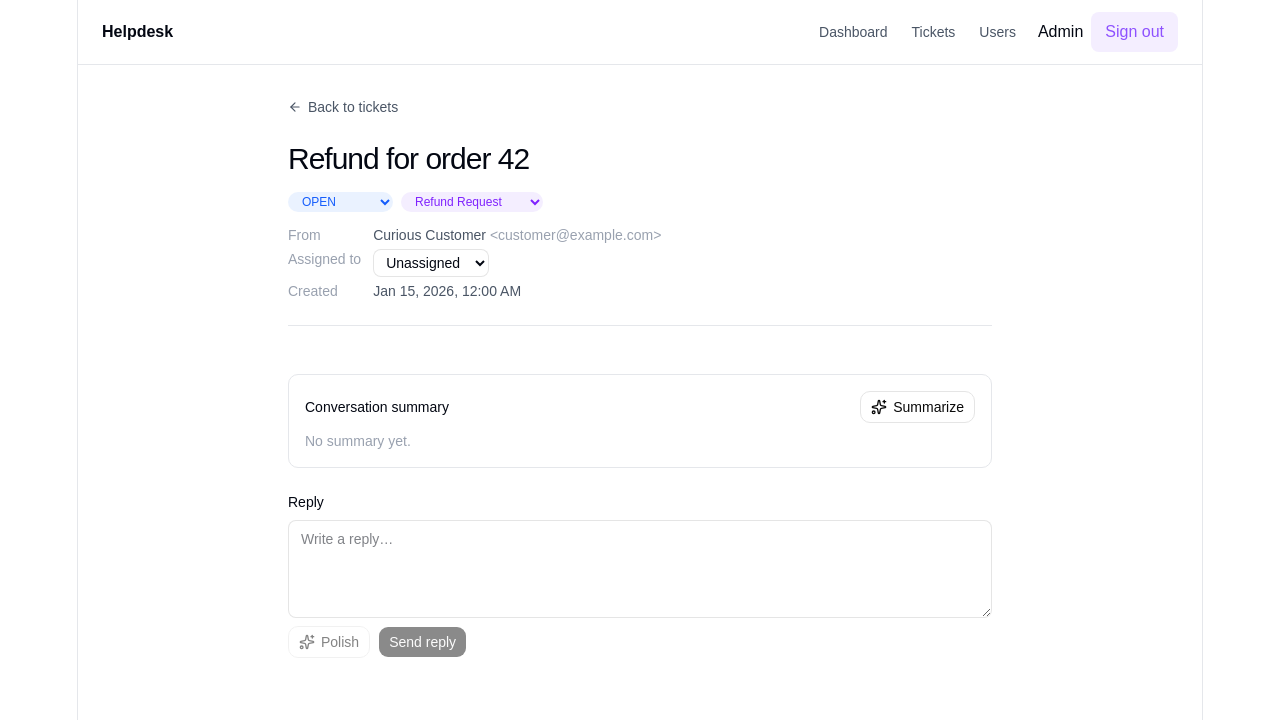
Test: TicketDetailPage › shows an error message when polishing a reply fails
The image size is (1280, 720).
Expected: the heading "Refund for order 42" is shown, [288,142,529,175]
In the text box labelled "Reply": (640, 569) [288,520,992,618], type "Hello there"
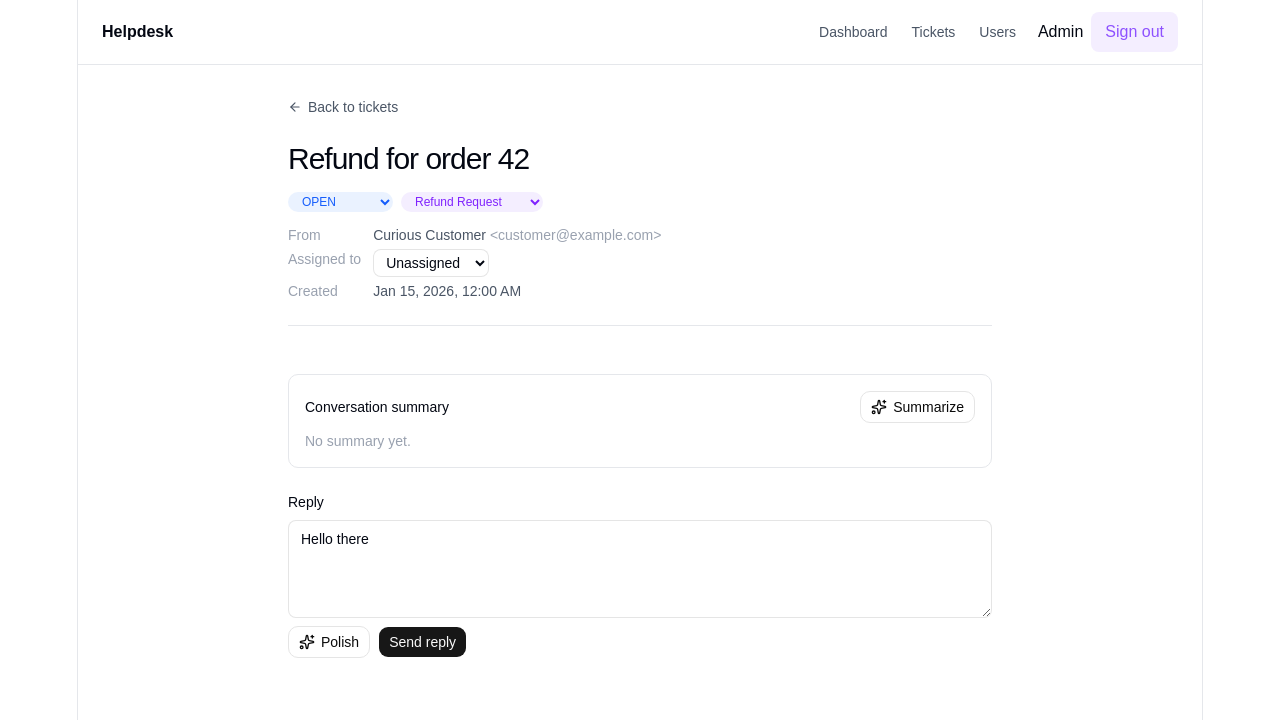
Click the button "Polish": (329, 642) [288,626,370,658]
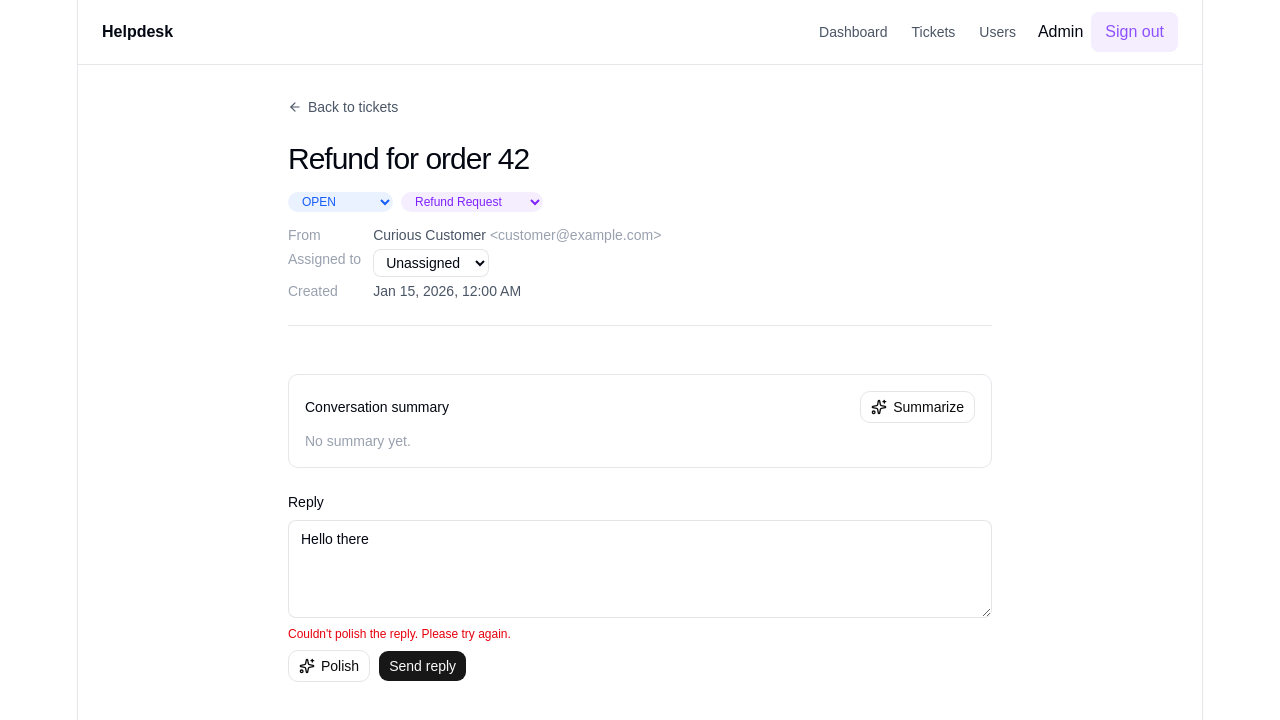
Now the text "Couldn't polish the reply. Please try again." is shown, box [288,627,511,641]
